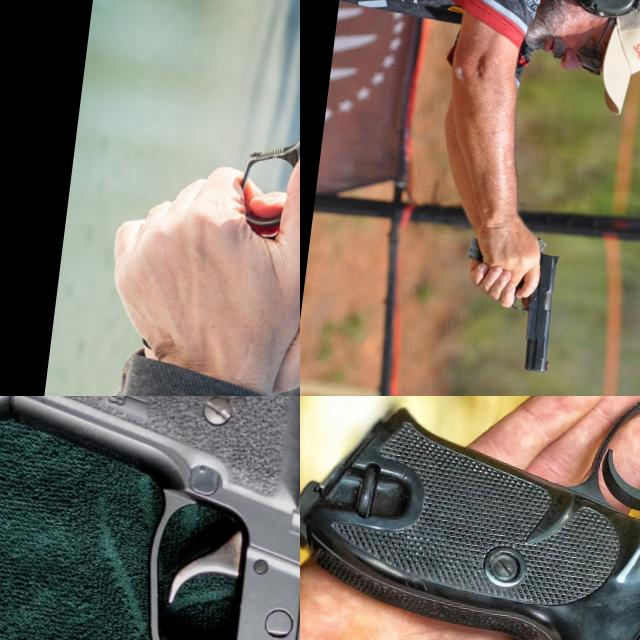handgun: (300, 396, 640, 640), (0, 396, 300, 640), (216, 21, 300, 374), (501, 230, 568, 376)
